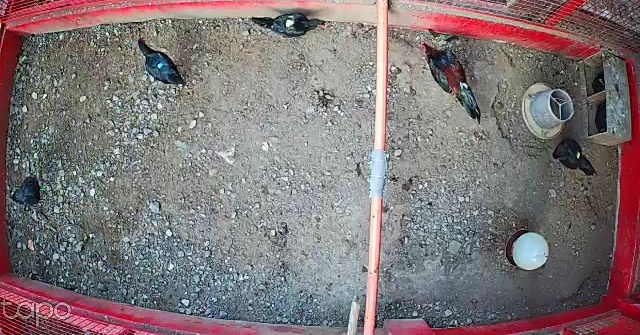Chicken: (134, 32, 186, 88), (252, 7, 329, 41), (549, 135, 597, 178), (5, 175, 53, 209)
Rooster: (420, 34, 485, 124)
Saddle_Color_Blue: (158, 60, 165, 69)
Saddle_Color_Yellow: (286, 18, 296, 28)
Saddle_Color_YellowGreen: (575, 150, 581, 160)
